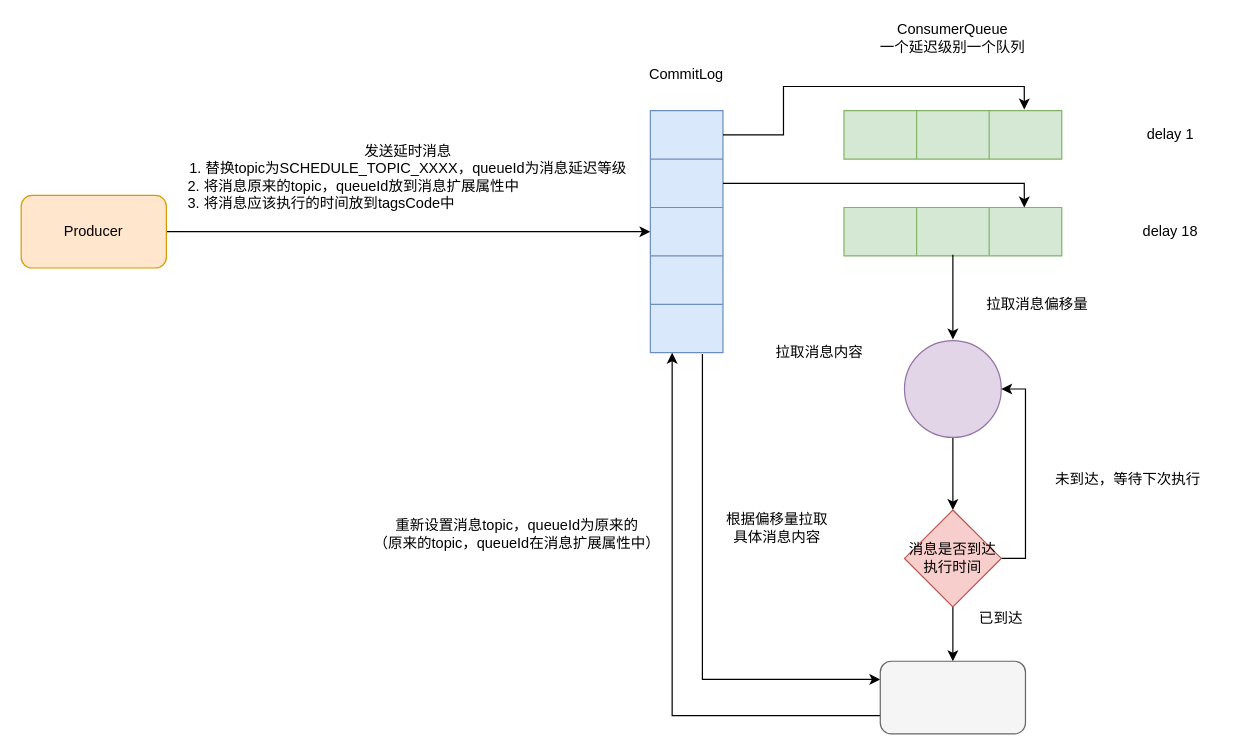
The diagram is 1240 pixels wide and 755 high, and some of its shapes have lost their labels. The box of each missing label's shape, as (x1, y1, x2, y2) in pixels:
定时任务: (903, 339, 1001, 437)
重新投递: (879, 660, 1025, 734)
